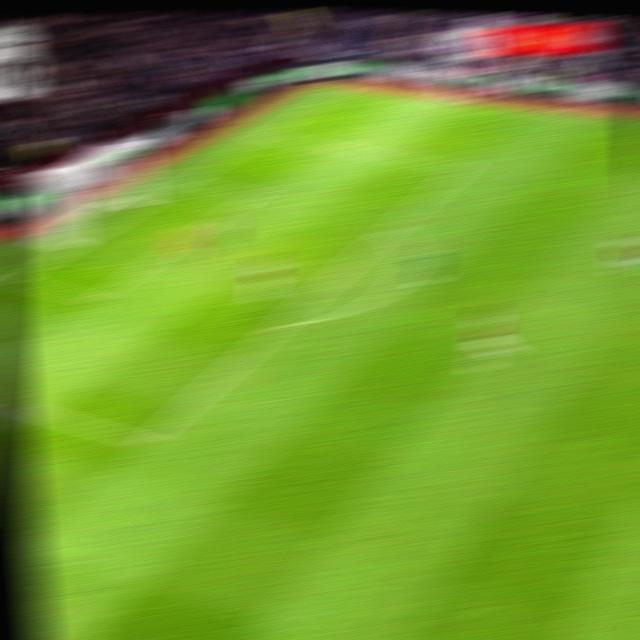bigarea_bottom_inner: (131, 429, 162, 453)
bigarea_top_inner: (449, 160, 476, 174)
bigarea_top_outter: (255, 133, 278, 139)
bottom_arc_area_intersection: (268, 319, 294, 331)
corner: (334, 86, 359, 91)
smallarea_bottom_inner: (79, 290, 108, 307)
smallarea_bottom_outter: (4, 272, 32, 286)
smallarea_top_inner: (240, 189, 267, 199)
smallarea_top_outter: (178, 176, 204, 186)
top_arc_area_intersection: (379, 224, 404, 235)
